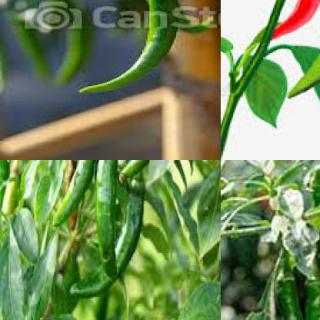green_chilli: (78, 0, 178, 95), (69, 188, 147, 297), (52, 160, 107, 227), (286, 8, 320, 101), (97, 160, 121, 282), (305, 168, 319, 306), (0, 162, 23, 223)
